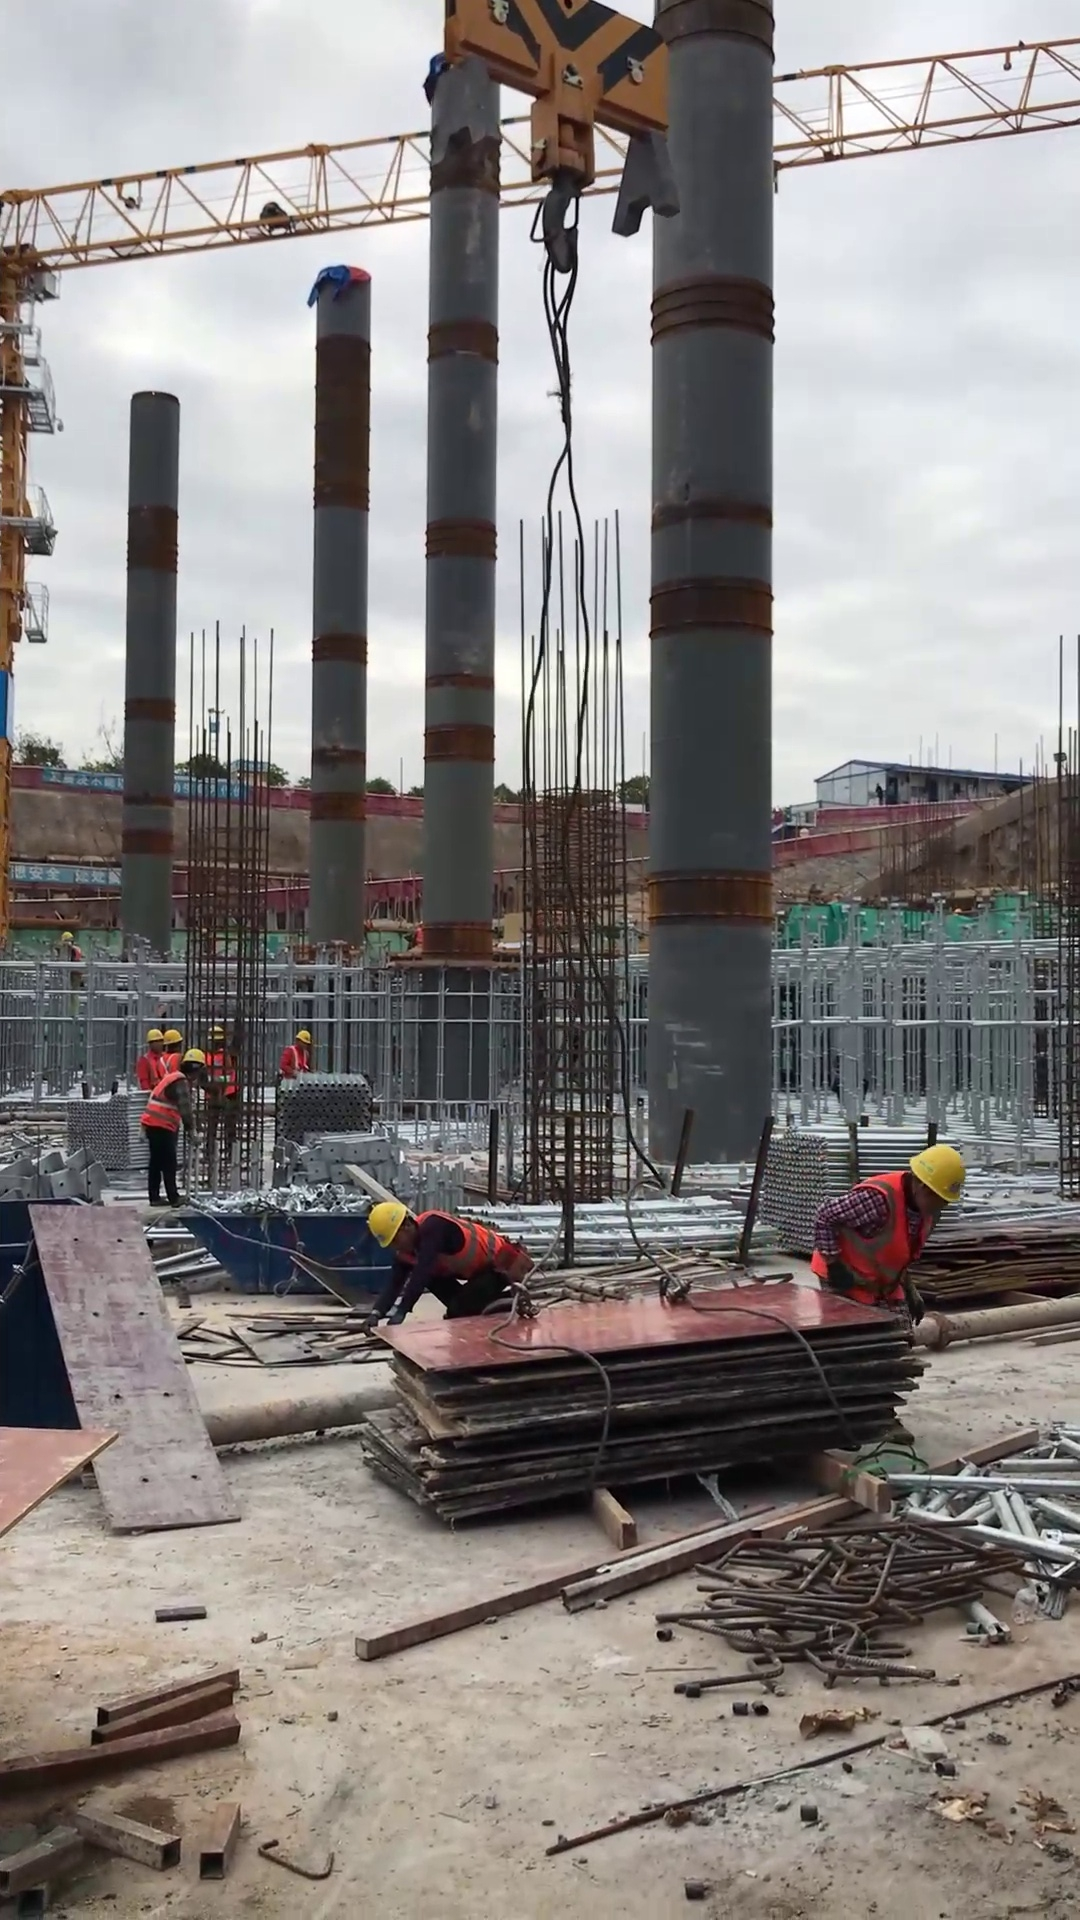board: (360, 1277, 929, 1521), (172, 1205, 392, 1297), (918, 1211, 1080, 1297)
helmet: (905, 1143, 966, 1207), (365, 1201, 410, 1249), (179, 1048, 207, 1067), (162, 1027, 184, 1046), (294, 1029, 313, 1046), (206, 1025, 226, 1041), (145, 1027, 163, 1042), (60, 929, 74, 944)
hook: (422, 1, 685, 276)
person: (804, 1141, 971, 1329), (362, 1198, 531, 1336), (139, 1045, 207, 1208), (199, 1024, 243, 1168), (133, 1026, 163, 1091), (276, 1028, 313, 1077), (155, 1025, 185, 1081)
scaffold: (460, 1193, 776, 1268), (755, 1123, 926, 1257), (273, 1070, 377, 1143), (64, 1086, 150, 1173)
slogan: (45, 770, 250, 809), (6, 861, 131, 890)
vest: (808, 1168, 936, 1310), (411, 1205, 502, 1278), (140, 1070, 187, 1136), (203, 1046, 239, 1098), (140, 1048, 160, 1088), (154, 1050, 180, 1077), (287, 1045, 311, 1074)
